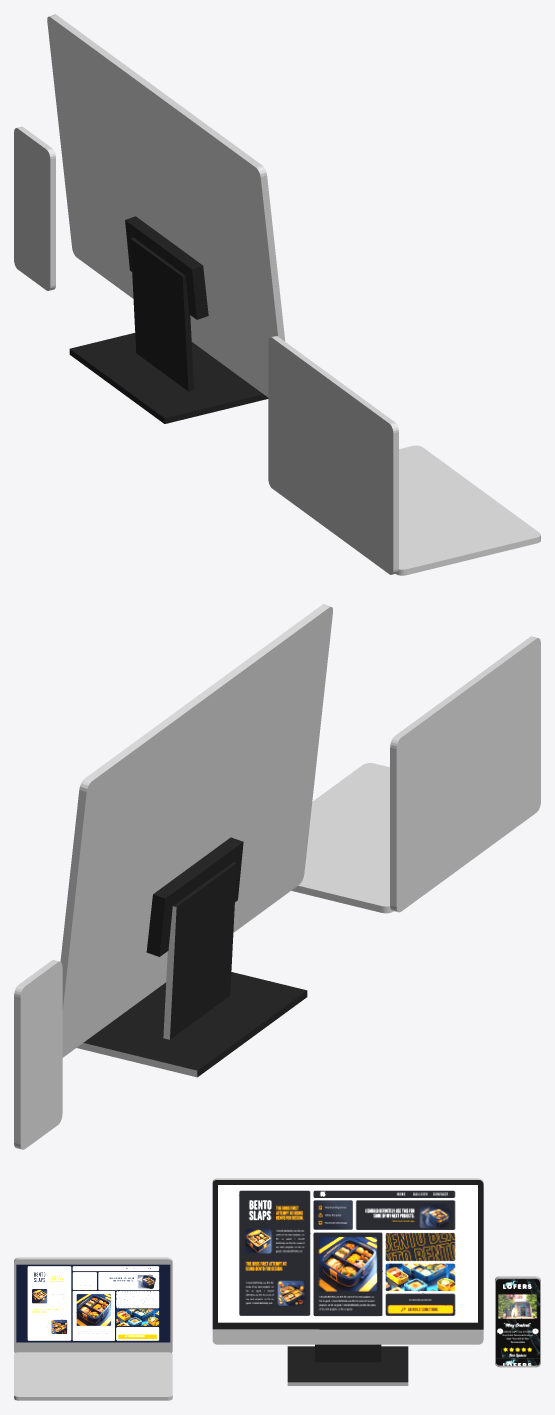
Rendered from comp1.glb.
The picture shows the model from 3 angles, top to bottom: view 1: azimuth 30°, elevation 25°; view 2: azimuth 150°, elevation 25°; view 3: azimuth 270°, elevation 25°; orthographic projection. The views are drawn at different scales.
Parts seen in each view (by area): view 1: Screen, Laptop, Phone; view 2: Screen, Laptop, Phone; view 3: Screen, Laptop, Phone.
Boxes of the visible parts, <box> form: Screen: <box>47,14,285,423</box>; Laptop: <box>268,336,540,575</box>; Phone: <box>14,126,55,290</box>; Screen: <box>60,604,332,1077</box>; Laptop: <box>291,636,540,913</box>; Phone: <box>14,960,62,1149</box>; Screen: <box>212,1178,483,1385</box>; Laptop: <box>14,1257,172,1400</box>; Phone: <box>495,1276,540,1367</box>.
Bounding box in the file's own units: 5.2 × 8.79 × 22.84.
Materials: 5 (3 with a texture image).
